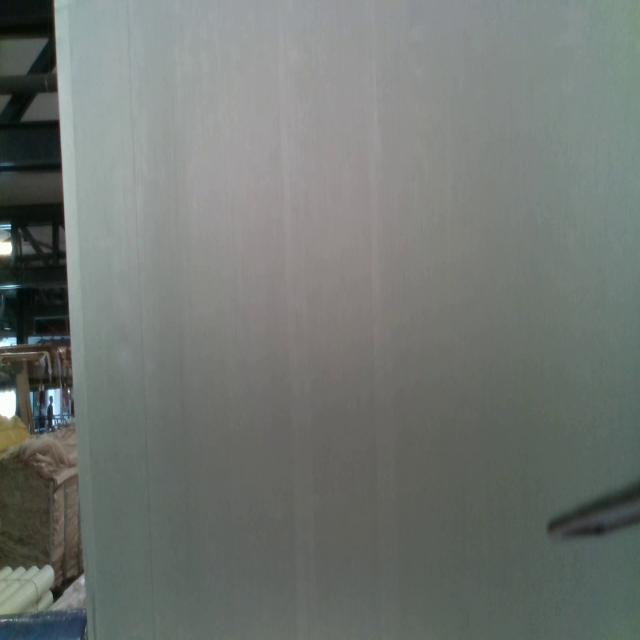crease: (276, 2, 310, 636), (367, 0, 399, 636), (126, 1, 154, 640)
